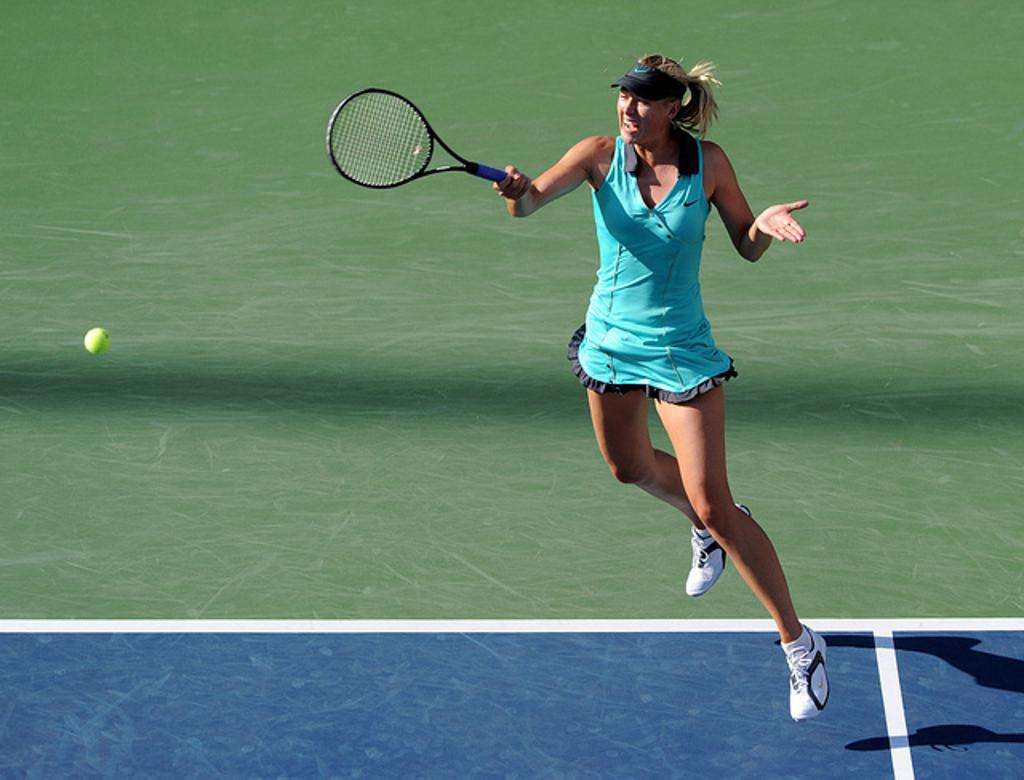face: (616, 85, 664, 143)
